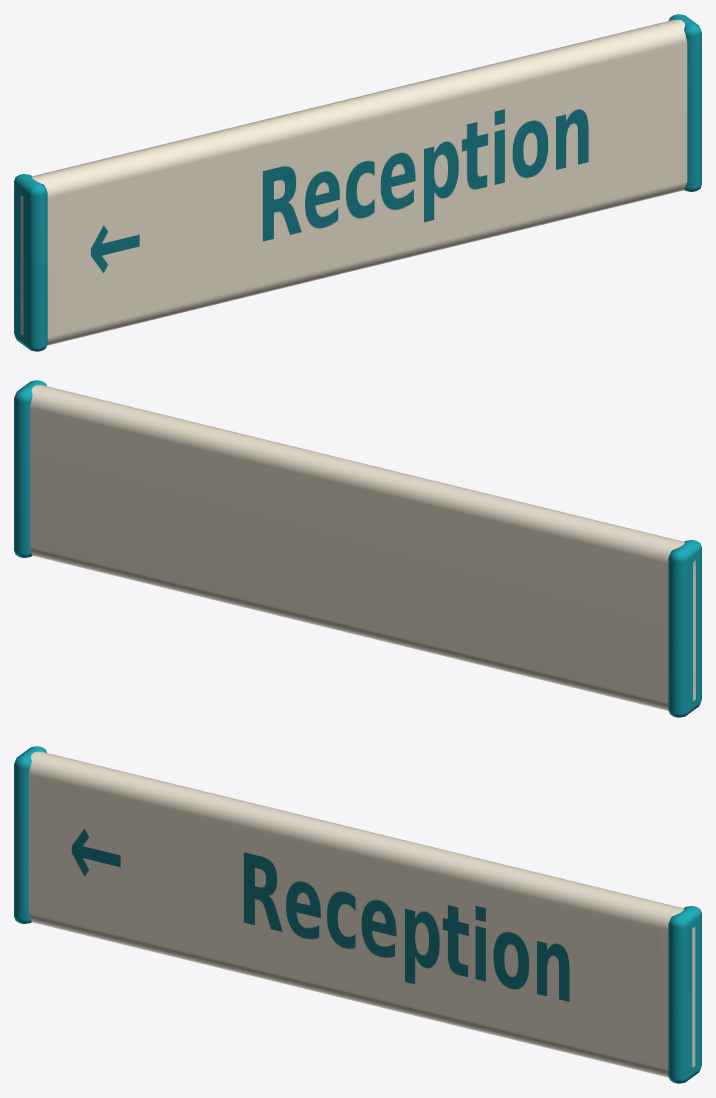
Rendered from Entrance_Sign_Reception.glb.
The picture shows the model from 3 angles, top to bottom: view 1: azimuth 30°, elevation 25°; view 2: azimuth 150°, elevation 25°; view 3: azimuth 330°, elevation 25°; orthographic projection.
Parts seen in each view (by area): view 1: Entrance_Sign_Reception__Entrance_Opaque_Graphics_Atlas, Entrance_Sign_Reception__CRNA_Shared_Matte_Atlas; view 2: Entrance_Sign_Reception__CRNA_Shared_Matte_Atlas; view 3: Entrance_Sign_Reception__Entrance_Opaque_Graphics_Atlas, Entrance_Sign_Reception__CRNA_Shared_Matte_Atlas.
Part boxes in pixels (x1,y1,x2,y2): Entrance_Sign_Reception__Entrance_Opaque_Graphics_Atlas: (55, 46, 679, 333); Entrance_Sign_Reception__CRNA_Shared_Matte_Atlas: (14, 14, 701, 351); Entrance_Sign_Reception__CRNA_Shared_Matte_Atlas: (14, 380, 701, 717); Entrance_Sign_Reception__Entrance_Opaque_Graphics_Atlas: (36, 778, 660, 1065); Entrance_Sign_Reception__CRNA_Shared_Matte_Atlas: (14, 746, 701, 1083).
Bounding box in the file's own units: 1.12 × 0.265 × 0.064.
Materials: 2 (2 with a texture image).
